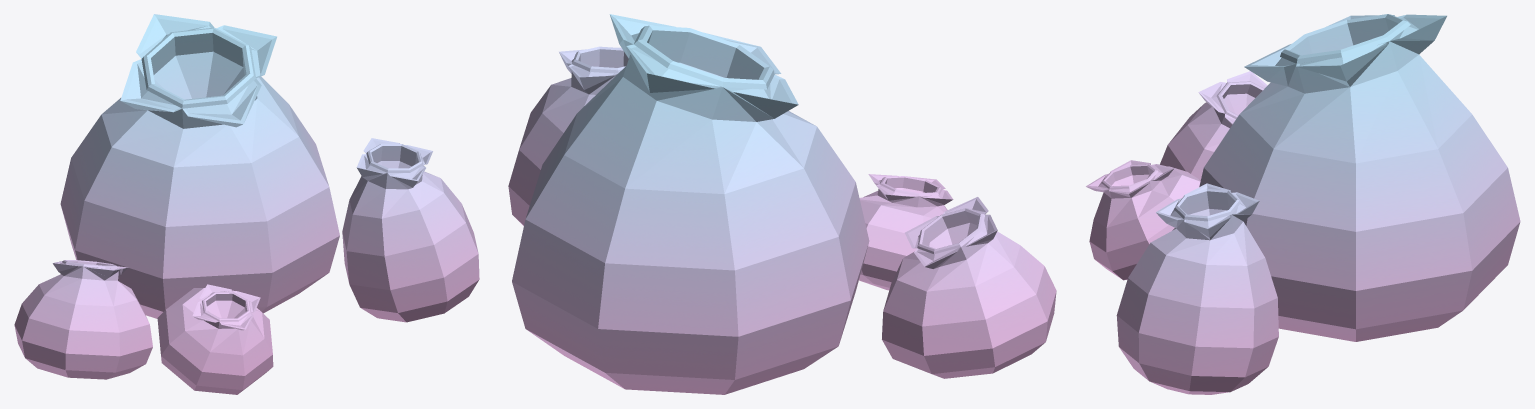
The model's file is MOD_Coral3.fbx.
3 renders of one model, left to right at view 1: azimuth 30°, elevation 25°; view 2: azimuth 150°, elevation 25°; view 3: azimuth 270°, elevation 25°, orthographic. The views are drawn at different scales.
Visible parts, largest first — view 1: MOD_Coral3; view 2: MOD_Coral3; view 3: MOD_Coral3.
Boxes of the visible parts, x1,y1,x2,y2 form: MOD_Coral3: (14,14,479,394); MOD_Coral3: (508,14,1056,394); MOD_Coral3: (1086,14,1520,394).
Bounding box in the file's own units: 3.45 × 1.97 × 2.64.
Materials: 1 (1 with a texture image).
